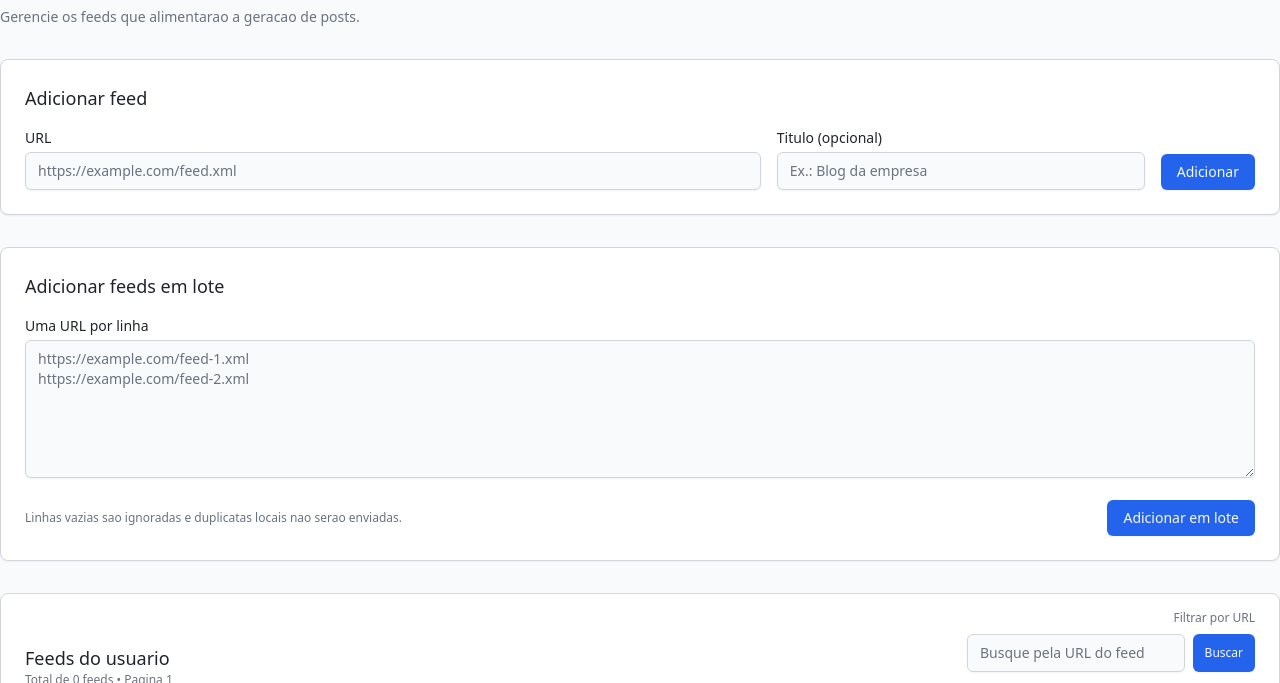
Test case: FeedsPage › shows a dedicated empty state when the search returns no feeds
In the search field labelled "Filtrar por URL": (1076, 653) [967,634,1185,672], type "news"
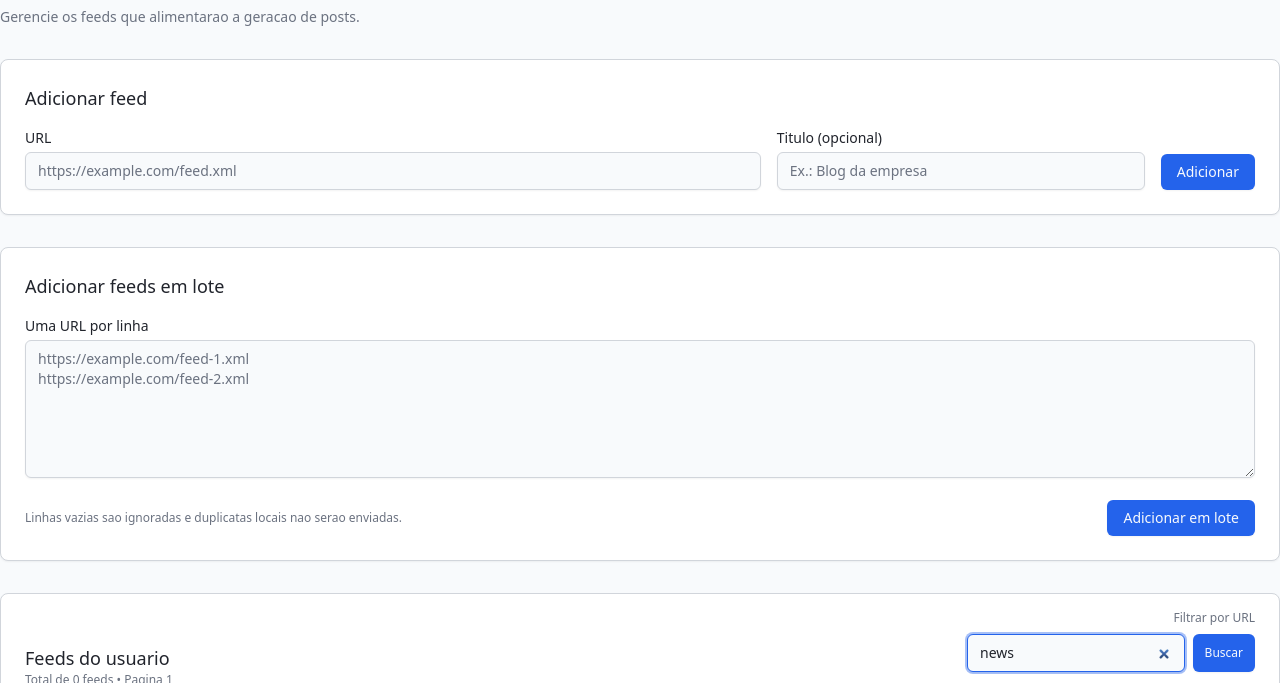
Click the button "Buscar": click(1224, 653) [1193,634,1255,672]
(page scrolled)
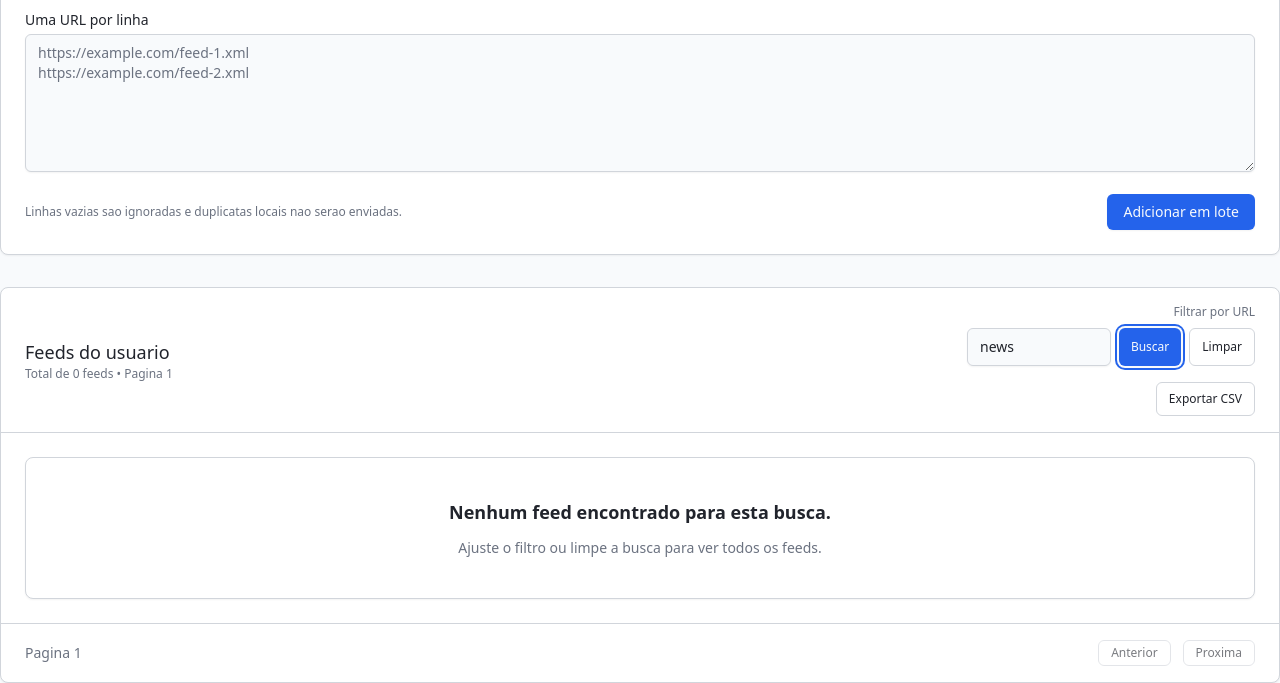
Result: the heading "Nenhum feed encontrado para esta busca." is shown at [449,498,831,526]
Result: the text "Ajuste o filtro ou limpe a busca para ver todos os feeds." is shown at [458,538,822,558]
